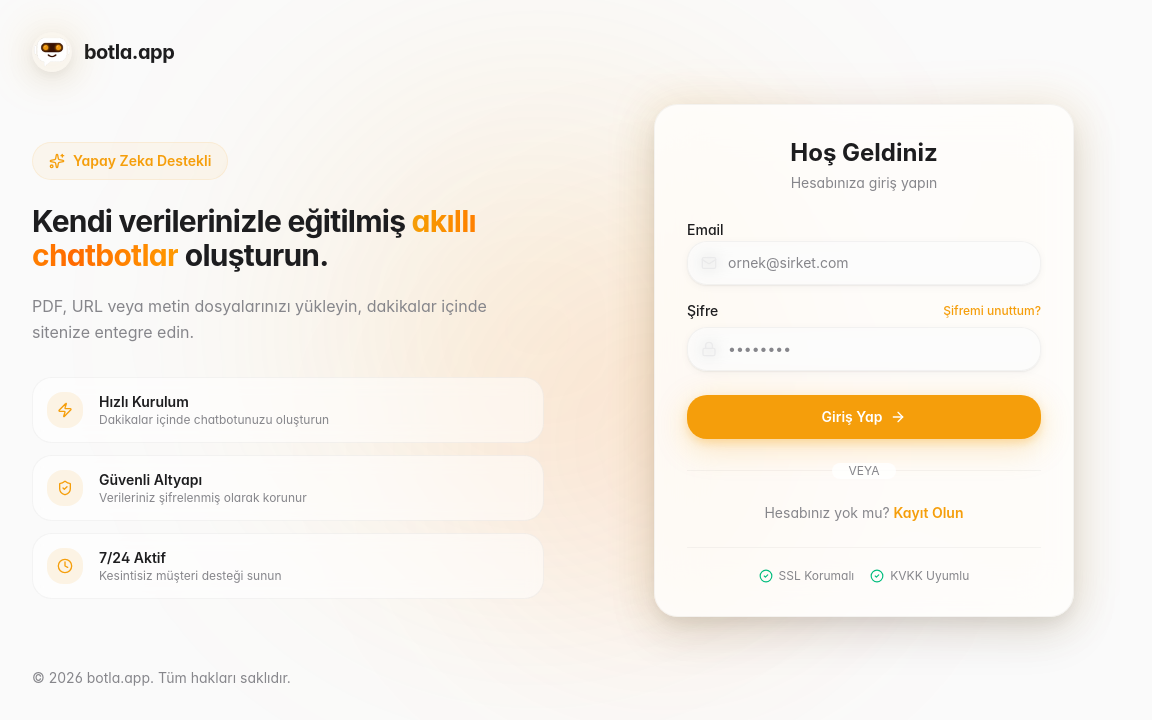
Scenario: LoginPage extra tests › shows error toast when fields are empty
Click the button "Giriş Yap": point(864, 416) [687,394,1041,438]
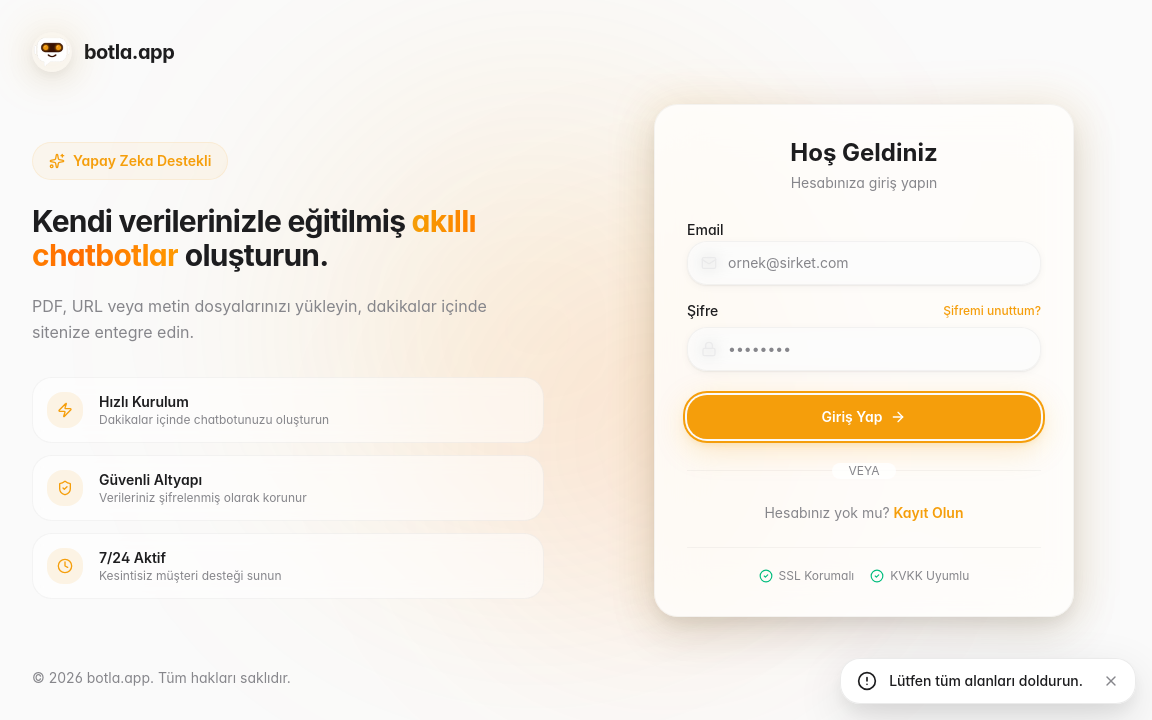
Expected: the text "Lütfen tüm alanları doldurun." is shown, [889,671,1083,691]
